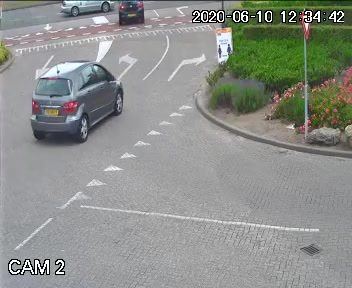car: (27, 58, 129, 146), (56, 0, 117, 18), (113, 0, 145, 28)
